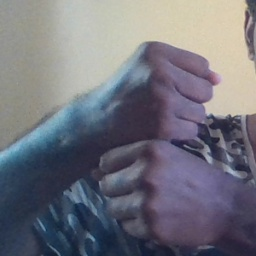G: (95, 39, 225, 242)
